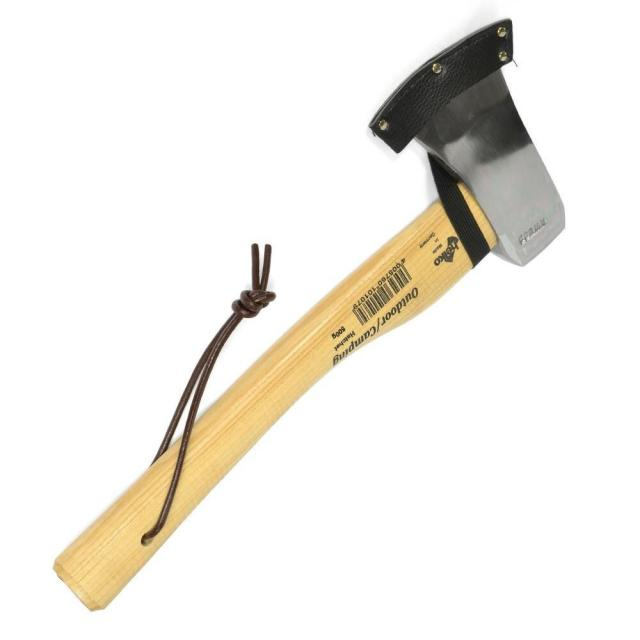Kapak: (53, 18, 565, 612)
